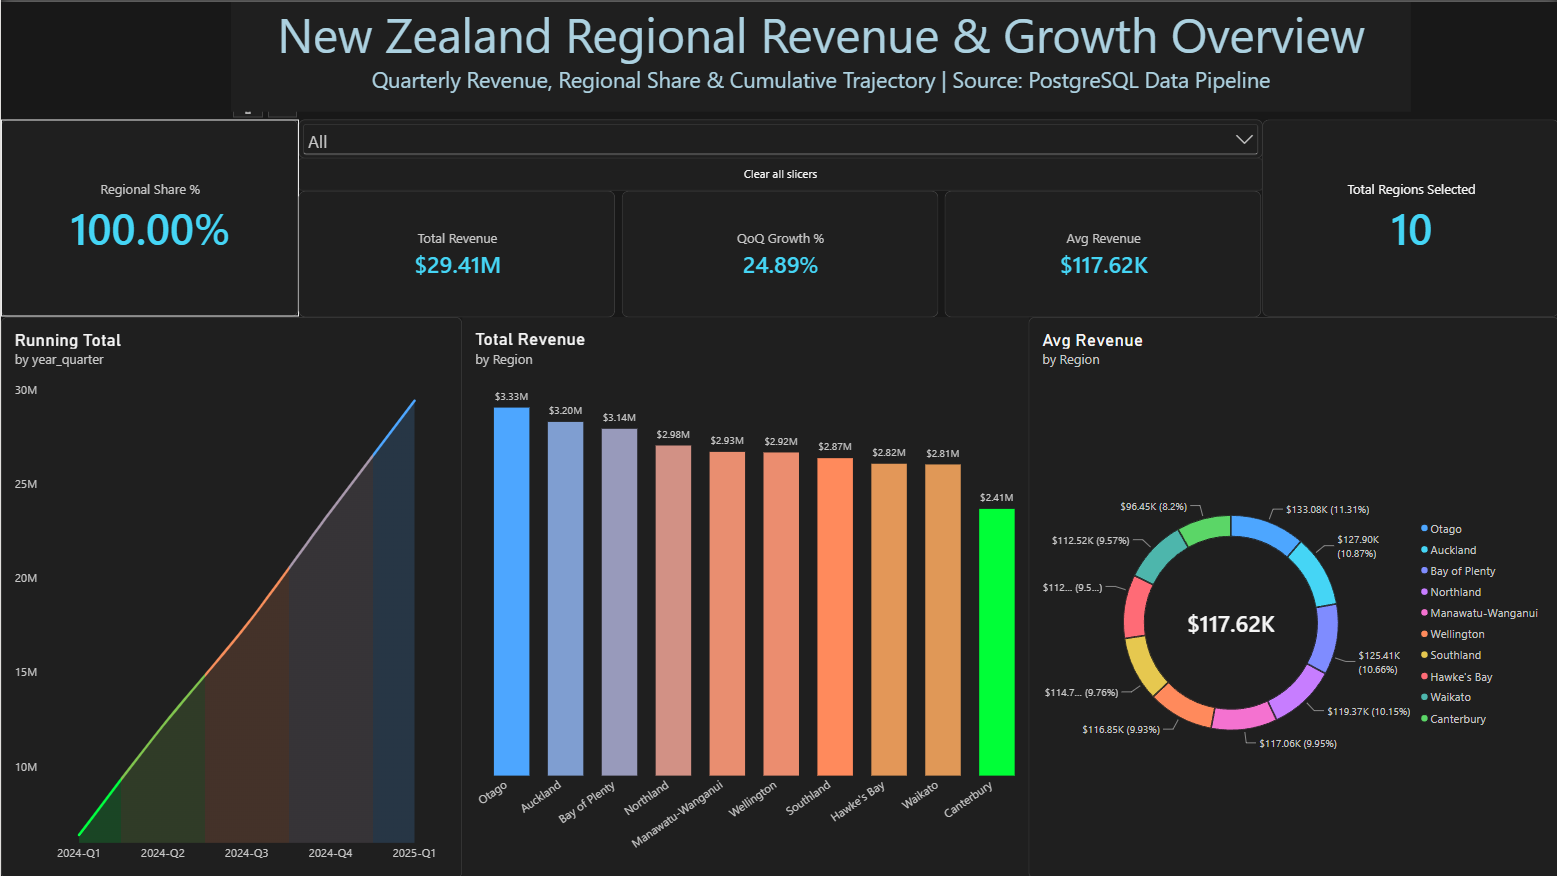

Layout of this report page (visuals, bound fields, positions):
{"tool":"powerbi","page":{"name":"NZ Regional Revenue and Growth Overview","canvas":[1920,1080],"ordinal":0},"visuals":[{"type":"slicer","fields":{"Values":["dim_region.region_name"]},"box":[366,144,1188,48],"z":0},{"type":"actionButton","box":[366,192,1188,40],"z":1},{"type":"cardVisual","fields":{"Data":["fact_regional_metrics.Regional Share %"]},"box":[0,144.8,366.5,243.3],"z":2},{"type":"cardVisual","fields":{"Data":["CountNonNull(dim_region.region_name)"]},"box":[1553.8,144.8,366.5,243.3],"z":3},{"type":"lineChart","fields":{"Category":["fact_regional_metrics.year_quarter"],"Y":["fact_regional_metrics.Running Total"]},"box":[0,388,568,692],"z":4},{"type":"clusteredColumnChart","fields":{"Category":["dim_region.region_name"],"Y":["fact_regional_metrics.Total Revenue"]},"box":[568,388,698,692],"z":5},{"type":"donutChart","fields":{"Category":["dim_region.region_name"],"Y":["fact_regional_metrics.Avg Revenue"]},"box":[1266,388,654,692],"z":6},{"type":"cardVisual","fields":{"Data":["fact_regional_metrics.Total Revenue","fact_regional_metrics.QoQ Growth %","fact_regional_metrics.Avg Revenue"]},"box":[366,232,1188,156],"z":7},{"type":"textbox","box":[283.4,0,1453.7,135.5],"z":8}]}

Visuals, with their boxes in screenshot pixels (x1, y1, x2, y2), scaled from the page's 1920x1080 canvas onto the 1557x876 screenshot:
slicer - dim_region.region_name: bbox(297, 117, 1260, 156)
actionButton: bbox(297, 156, 1260, 188)
cardVisual - fact_regional_metrics.Regional Share %: bbox(0, 117, 297, 315)
cardVisual - CountNonNull(dim_region.region_name): bbox(1260, 117, 1556, 315)
lineChart - fact_regional_metrics.year_quarter x fact_regional_metrics.Running Total: bbox(0, 315, 461, 875)
clusteredColumnChart - dim_region.region_name x fact_regional_metrics.Total Revenue: bbox(461, 315, 1027, 875)
donutChart - dim_region.region_name x fact_regional_metrics.Avg Revenue: bbox(1027, 315, 1556, 875)
cardVisual - fact_regional_metrics.Total Revenue x fact_regional_metrics.QoQ Growth %: bbox(297, 188, 1260, 315)
textbox: bbox(230, 0, 1409, 110)
